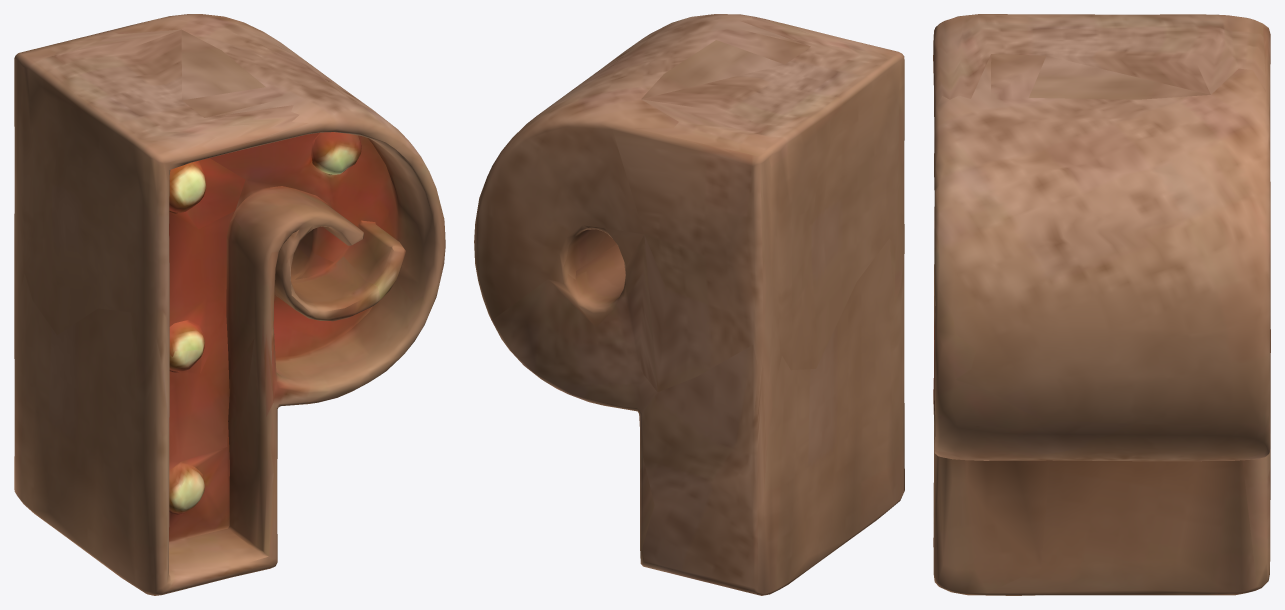
The model's file is letter_p_idle.glb.
3 renders of one model, left to right at view 1: azimuth 30°, elevation 25°; view 2: azimuth 150°, elevation 25°; view 3: azimuth 270°, elevation 25°, orthographic. The views are drawn at different scales.
Parts seen in each view (by area): view 1: tmp_letters_partial_l_s_03; view 2: tmp_letters_partial_l_s_03; view 3: tmp_letters_partial_l_s_03.
Boxes of the visible parts, x1,y1,x2,y2 form: tmp_letters_partial_l_s_03: [14, 14, 445, 595]; tmp_letters_partial_l_s_03: [474, 14, 904, 595]; tmp_letters_partial_l_s_03: [933, 14, 1270, 595].
Bounding box in the file's own units: 0.6952 × 0.9988 × 0.5955.
1 material, 1 textured.
